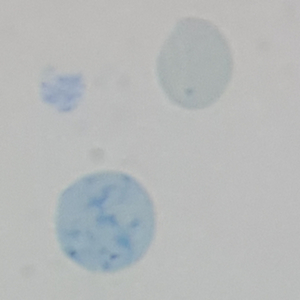aggregate reticulocyte: (53, 169, 158, 274)
punctate reticulocyte: (154, 14, 239, 112)
